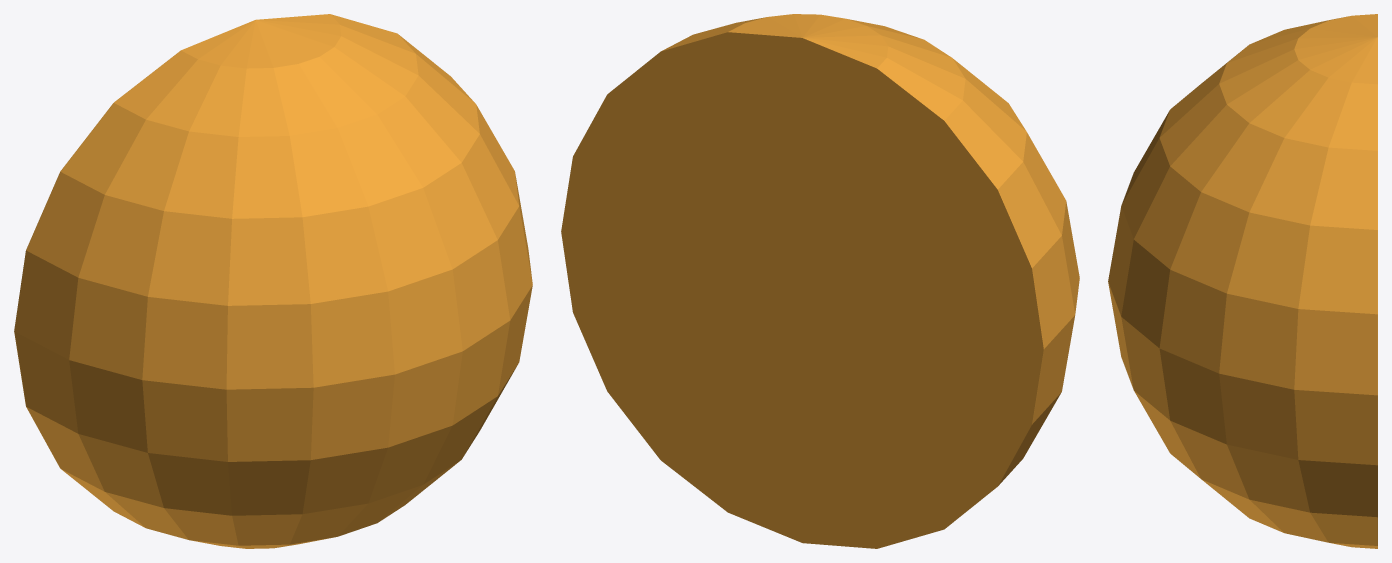
File: SM_Laser_Base.obj
3 renders of one model, left to right at view 1: azimuth 30°, elevation 25°; view 2: azimuth 150°, elevation 25°; view 3: azimuth 270°, elevation 25°, orthographic. The views are drawn at different scales.
Bounding box in the file's own units: 1400 × 1400 × 701.
